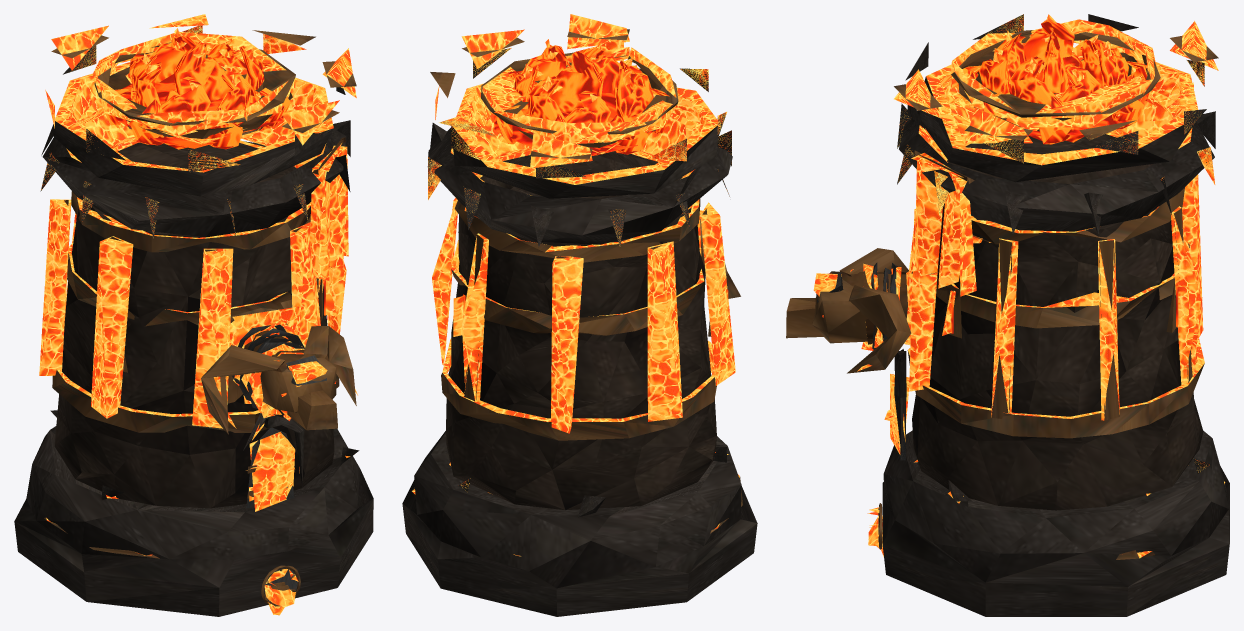
Rendered from emberhold_rook_fragments.glb.
3 renders of one model, left to right at view 1: azimuth 30°, elevation 25°; view 2: azimuth 150°, elevation 25°; view 3: azimuth 270°, elevation 25°, orthographic. The views are drawn at different scales.
Parts seen in each view (by area): view 1: frag_019, frag_012, frag_027, frag_016, frag_022, frag_023, frag_002, frag_014, frag_017, frag_025, frag_024, frag_011 (+12 smaller); view 2: frag_019, frag_012, frag_021, frag_027, frag_016, frag_020, frag_010, frag_022, frag_011, frag_013, frag_024, frag_017 (+7 smaller); view 3: frag_019, frag_027, frag_006, frag_002, frag_024, frag_008, frag_022, frag_023, frag_020, frag_025, frag_028, frag_013 (+11 smaller).
Boxes of the visible parts, x1=… form: frag_019: x1=14, y1=426, x2=373, y2=616; frag_012: x1=40, y1=124, x2=288, y2=505; frag_027: x1=53, y1=30, x2=333, y2=196; frag_016: x1=42, y1=97, x2=286, y2=239; frag_022: x1=52, y1=222, x2=339, y2=432; frag_023: x1=156, y1=385, x2=359, y2=508; frag_002: x1=118, y1=141, x2=350, y2=325; frag_014: x1=192, y1=248, x2=284, y2=434; frag_017: x1=91, y1=236, x2=133, y2=418; frag_025: x1=260, y1=354, x2=337, y2=430; frag_024: x1=241, y1=48, x2=356, y2=227; frag_011: x1=71, y1=140, x2=311, y2=252; frag_019: x1=402, y1=431, x2=757, y2=616; frag_012: x1=462, y1=151, x2=729, y2=447; frag_021: x1=451, y1=346, x2=716, y2=510; frag_027: x1=430, y1=39, x2=718, y2=198; frag_016: x1=482, y1=110, x2=732, y2=244; frag_020: x1=451, y1=205, x2=704, y2=433; frag_010: x1=647, y1=241, x2=682, y2=421; frag_022: x1=441, y1=338, x2=716, y2=440; frag_011: x1=428, y1=150, x2=700, y2=262; frag_013: x1=439, y1=76, x2=610, y2=178; frag_024: x1=427, y1=29, x2=531, y2=228; frag_017: x1=700, y1=202, x2=735, y2=385; frag_019: x1=882, y1=430, x2=1229, y2=616; frag_027: x1=919, y1=19, x2=1198, y2=182; frag_006: x1=960, y1=238, x2=1163, y2=444; frag_002: x1=915, y1=161, x2=1172, y2=399; frag_024: x1=899, y1=107, x2=1214, y2=233; frag_008: x1=998, y1=428, x2=1172, y2=510; frag_022: x1=904, y1=209, x2=1204, y2=438; frag_023: x1=912, y1=377, x2=1022, y2=505; frag_020: x1=936, y1=111, x2=1215, y2=337; frag_025: x1=786, y1=271, x2=878, y2=343; frag_028: x1=847, y1=262, x2=911, y2=373; frag_013: x1=1079, y1=21, x2=1218, y2=135.
Bounding box in the file's own units: 0.739 × 1.24 × 0.9441.
8 materials, 8 textured.
